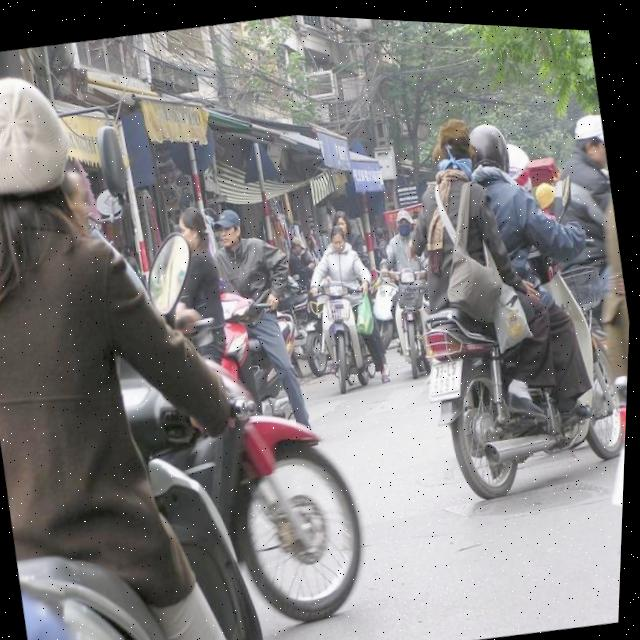motorcycle: (0, 272, 391, 640), (0, 339, 295, 640), (389, 213, 633, 523), (200, 273, 326, 459), (306, 267, 386, 400), (374, 266, 439, 388)
plate: (418, 349, 471, 407)
